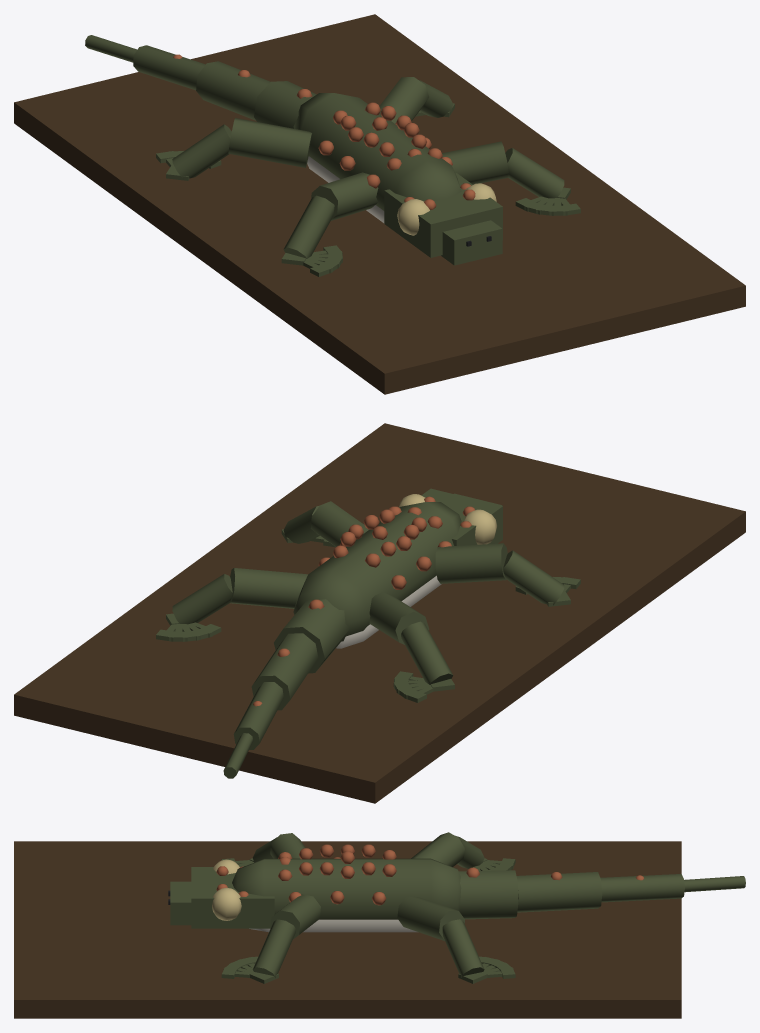
File: tokay-gecko-clinging-spread.glb
3 renders of one model, top to bottom at view 1: azimuth 30°, elevation 25°; view 2: azimuth 150°, elevation 25°; view 3: azimuth 270°, elevation 25°, orthographic. The views are drawn at different scales.
Parts seen in each view (by area): view 1: Mesh_SurfaceBoard, Mesh_Body, Mesh_HeadSkull, Mesh_BR_LegUpper, Mesh_Tail2, Mesh_HeadSnout, Mesh_FL_ArmUpper, Mesh_Tail3, Mesh_Tail1, Mesh_FR_ArmUpper, Mesh_FR_ArmLower, Mesh_BR_LegLower (+7 smaller); view 2: Mesh_SurfaceBoard, Mesh_Body, Mesh_FR_ArmUpper, Mesh_BL_LegUpper, Mesh_Tail1, Mesh_Tail2, Mesh_BR_LegLower, Mesh_FR_ArmLower, Mesh_BL_LegLower, Mesh_Tail3, Mesh_BR_LegUpper, Mesh_HeadSkull (+7 smaller); view 3: Mesh_SurfaceBoard, Mesh_Body, Mesh_HeadSkull, Mesh_Tail2, Mesh_Tail1, Mesh_Tail3, Mesh_BL_LegUpper, Mesh_FL_ArmLower, Mesh_BL_LegLower, Mesh_Belly, Mesh_FL_ArmUpper, Mesh_BR_LegUpper (+8 smaller).
Part boxes in pixels (<box>): Mesh_SurfaceBoard: <box>14,14,745,394</box>; Mesh_Body: <box>293,93,461,210</box>; Mesh_HeadSkull: <box>384,173,502,257</box>; Mesh_BR_LegUpper: <box>228,118,311,167</box>; Mesh_Tail2: <box>196,61,270,120</box>; Mesh_HeadSnout: <box>441,220,502,265</box>; Mesh_FL_ArmUpper: <box>442,141,508,184</box>; Mesh_Tail3: <box>133,45,205,90</box>; Mesh_Tail1: <box>254,81,316,128</box>; Mesh_FR_ArmUpper: <box>311,172,378,220</box>; Mesh_FR_ArmLower: <box>283,195,334,258</box>; Mesh_BR_LegLower: <box>172,124,231,179</box>; Mesh_SurfaceBoard: <box>14,423,745,803</box>; Mesh_Body: <box>293,502,461,641</box>; Mesh_FR_ArmUpper: <box>435,543,507,583</box>; Mesh_BL_LegUpper: <box>230,568,307,608</box>; Mesh_Tail1: <box>274,599,350,673</box>; Mesh_Tail2: <box>251,633,318,710</box>; Mesh_BR_LegLower: <box>401,621,453,684</box>; Mesh_FR_ArmLower: <box>503,550,564,605</box>; Mesh_BL_LegLower: <box>172,574,232,624</box>; Mesh_Tail3: <box>233,682,283,749</box>; Mesh_BR_LegUpper: <box>369,592,429,644</box>; Mesh_HeadSkull: <box>421,488,502,545</box>; Mesh_SurfaceBoard: <box>14,841,681,1018</box>; Mesh_Body: <box>232,858,461,919</box>; Mesh_HeadSkull: <box>191,867,274,928</box>; Mesh_Tail2: <box>516,872,602,912</box>; Mesh_Tail1: <box>458,870,518,919</box>; Mesh_Tail3: <box>600,874,684,902</box>; Mesh_BL_LegUpper: <box>397,896,464,940</box>; Mesh_FL_ArmLower: <box>252,919,295,977</box>; Mesh_BL_LegLower: <box>442,919,484,977</box>; Mesh_Belly: <box>249,919,418,932</box>; Mesh_FL_ArmUpper: <box>270,894,320,939</box>; Mesh_BR_LegUpper: <box>411,832,464,866</box>.
Bounding box in the file's own units: 0.18 × 0.0465 × 0.3509.
4 materials, 4 textured.
